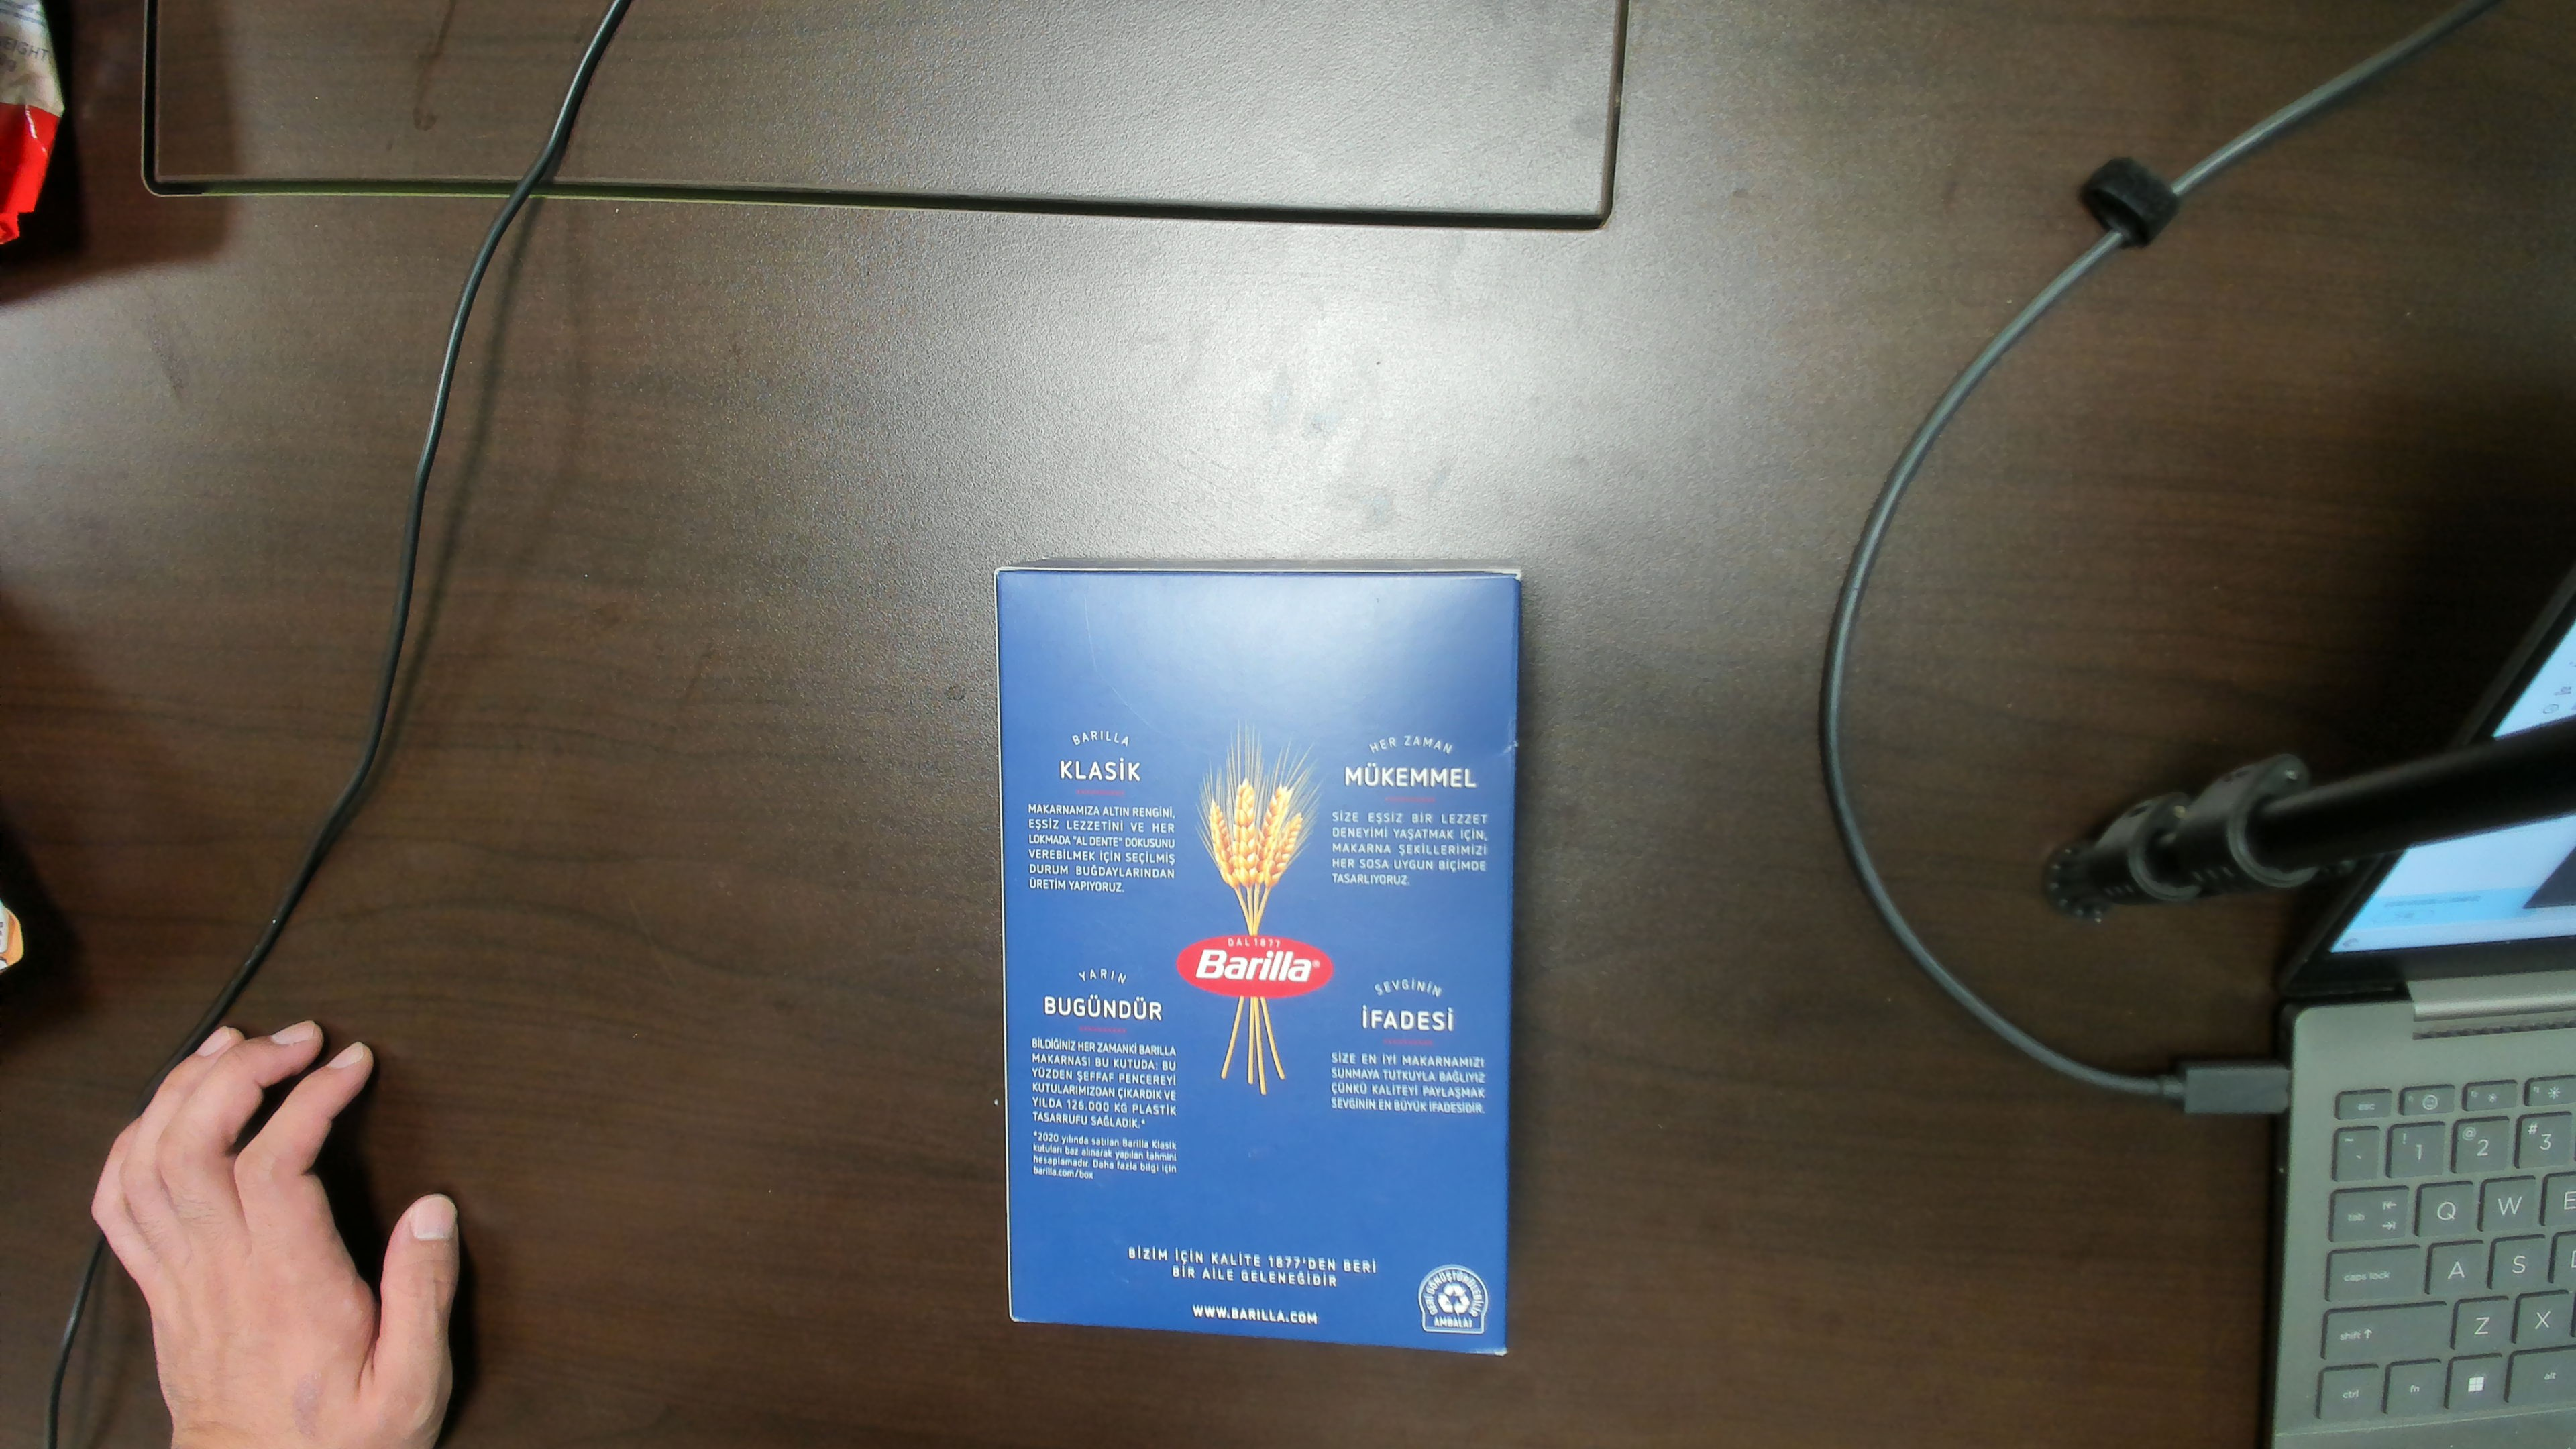Pasta_400-499g_Halal_NonHealthy: (1003, 586, 1504, 1352)
